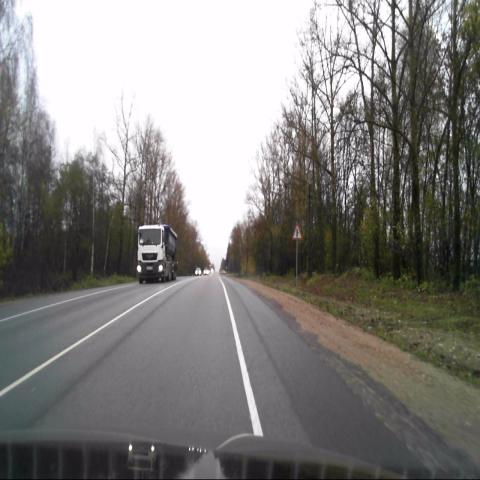2_3_2: (292, 223, 302, 240)
